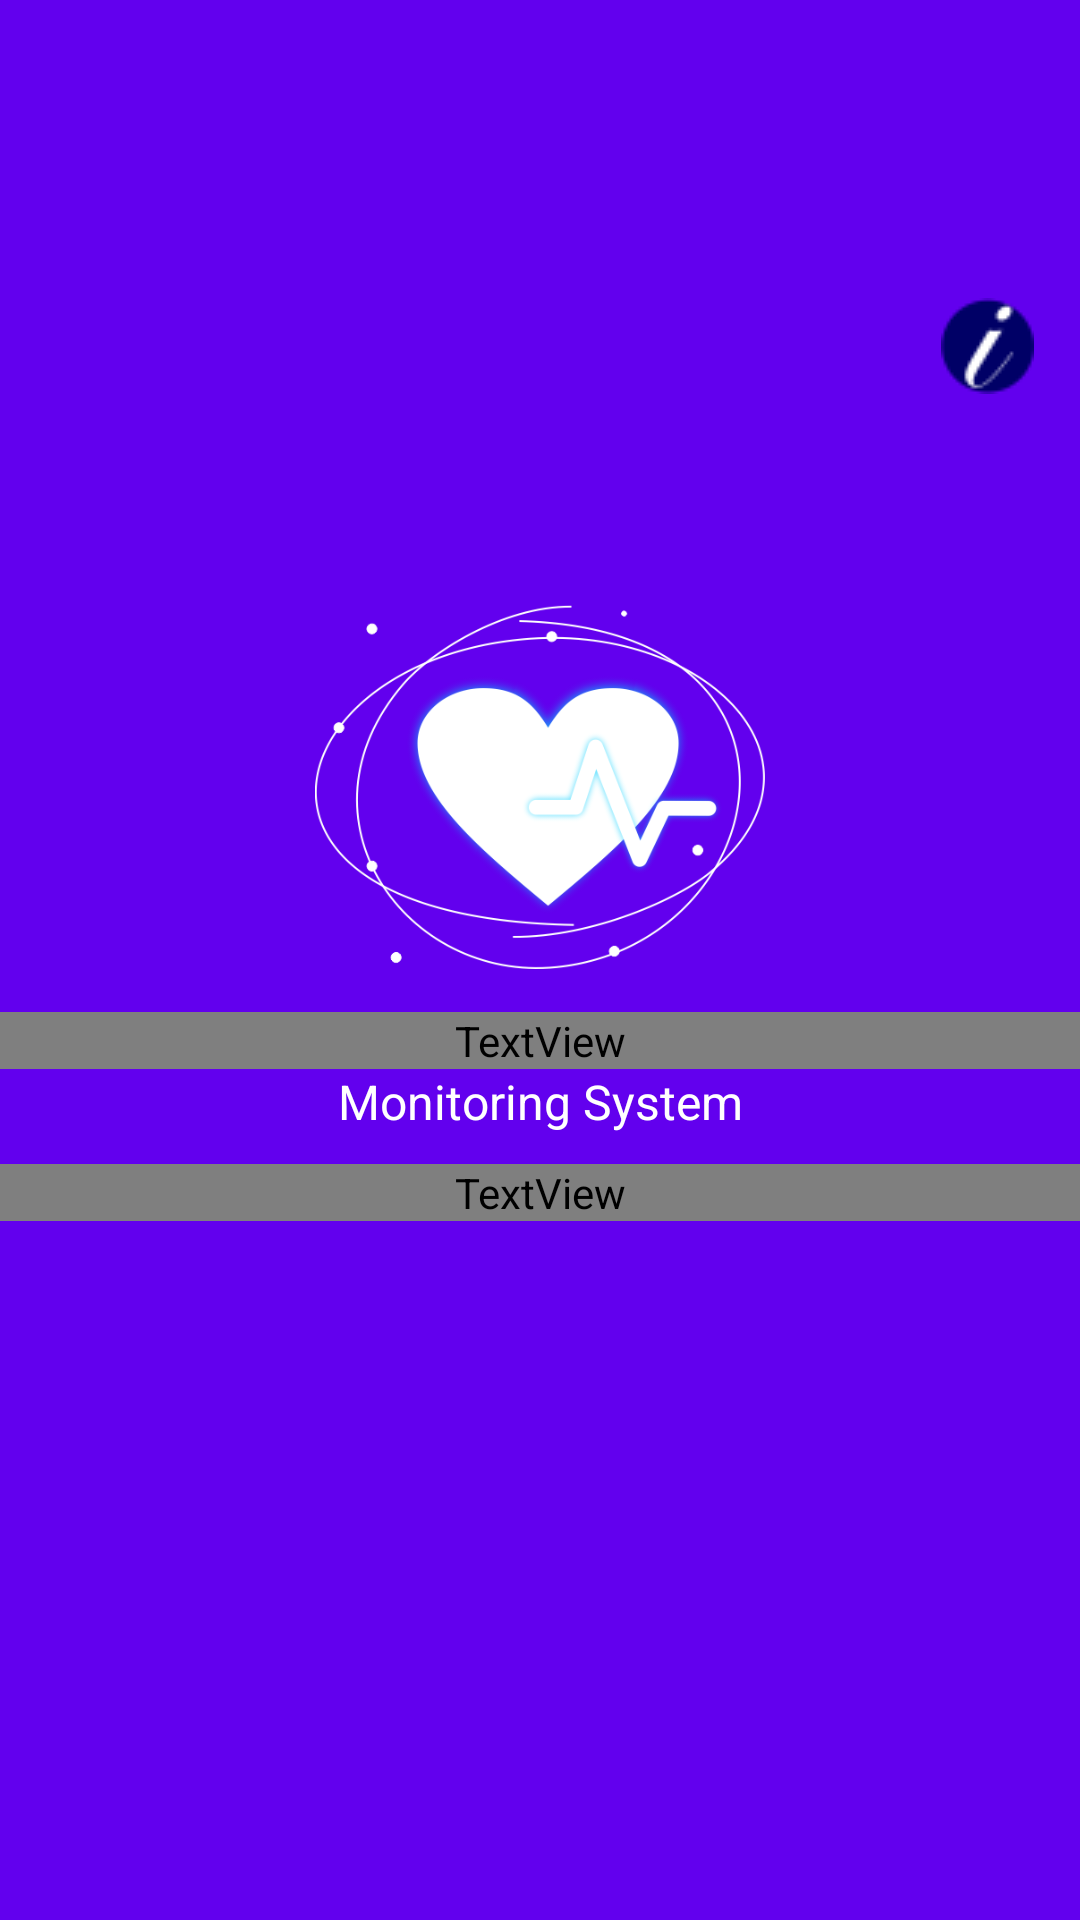

Icon bounding boxes for this 1080px x 1920px phone screenshot, format [left=x1, top=y1, right=x2, bottom=y2]:
info: [left=941, top=298, right=1034, bottom=394]
